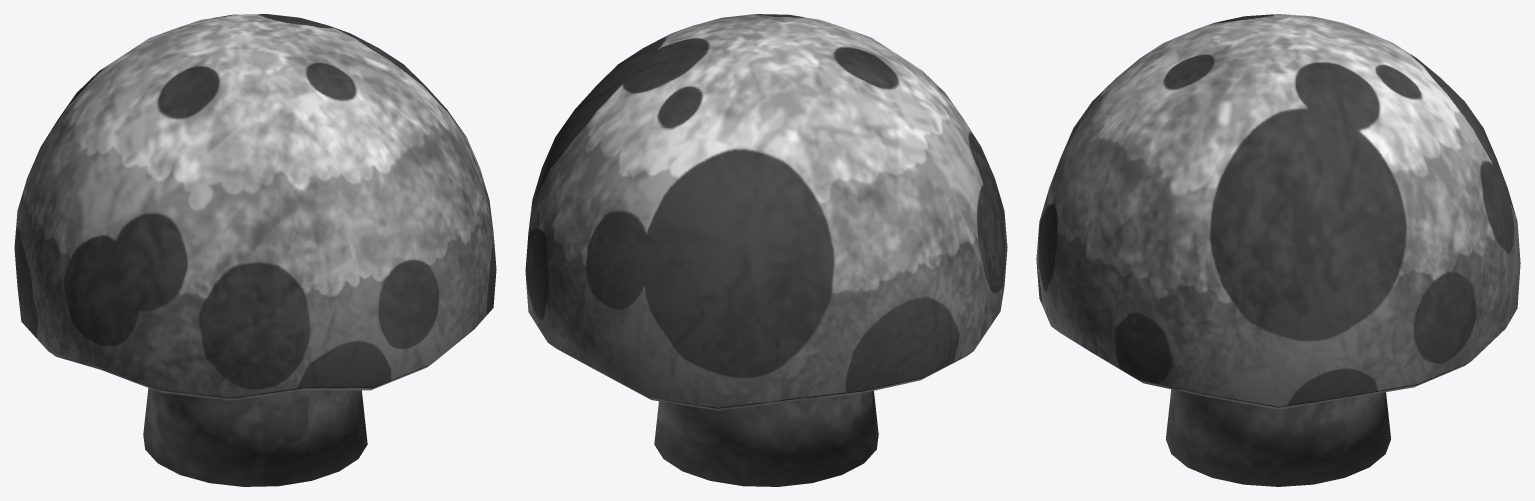
Rendered from Mushroom3A.fbx.
3 views of the same model, side by side, from view 1: azimuth 30°, elevation 25°; view 2: azimuth 150°, elevation 25°; view 3: azimuth 270°, elevation 25° (orthographic).
Parts seen in each view (by area): view 1: pSphere1; view 2: pSphere1; view 3: pSphere1.
Part boxes in pixels (<box>): pSphere1: <box>14,14,496,486</box>; pSphere1: <box>525,14,1007,486</box>; pSphere1: <box>1036,14,1520,486</box>.
Bounding box in the file's own units: 50.98 × 46.9 × 50.98.
Materials: 1 (1 with a texture image).
